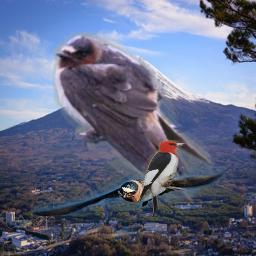Swallow: (51, 32, 214, 203), (31, 166, 225, 216)
Woodpecker: (138, 140, 186, 218)
